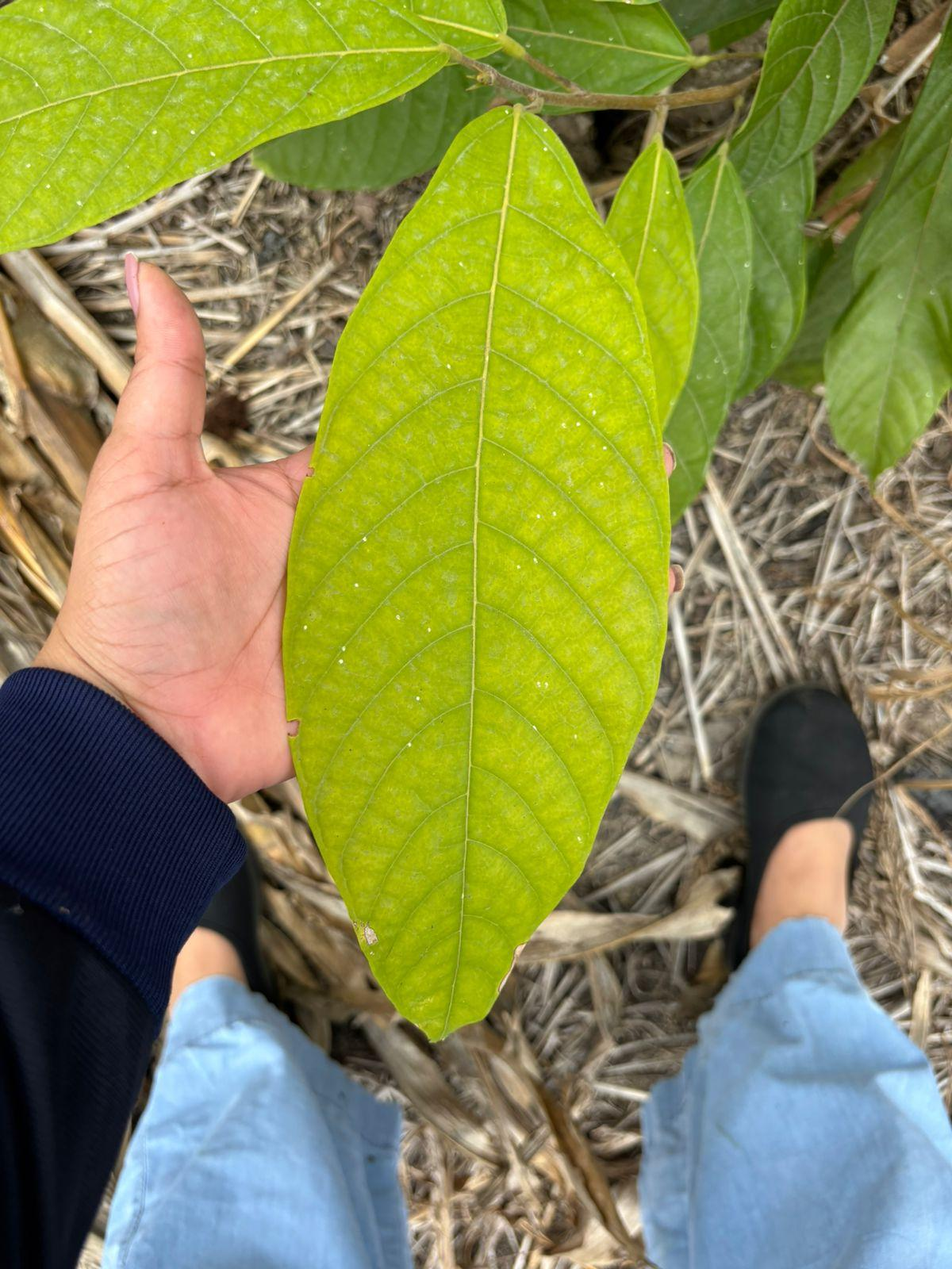deficiencia_nitrogeno: (285, 108, 669, 1038), (0, 0, 506, 250), (608, 134, 699, 426)
